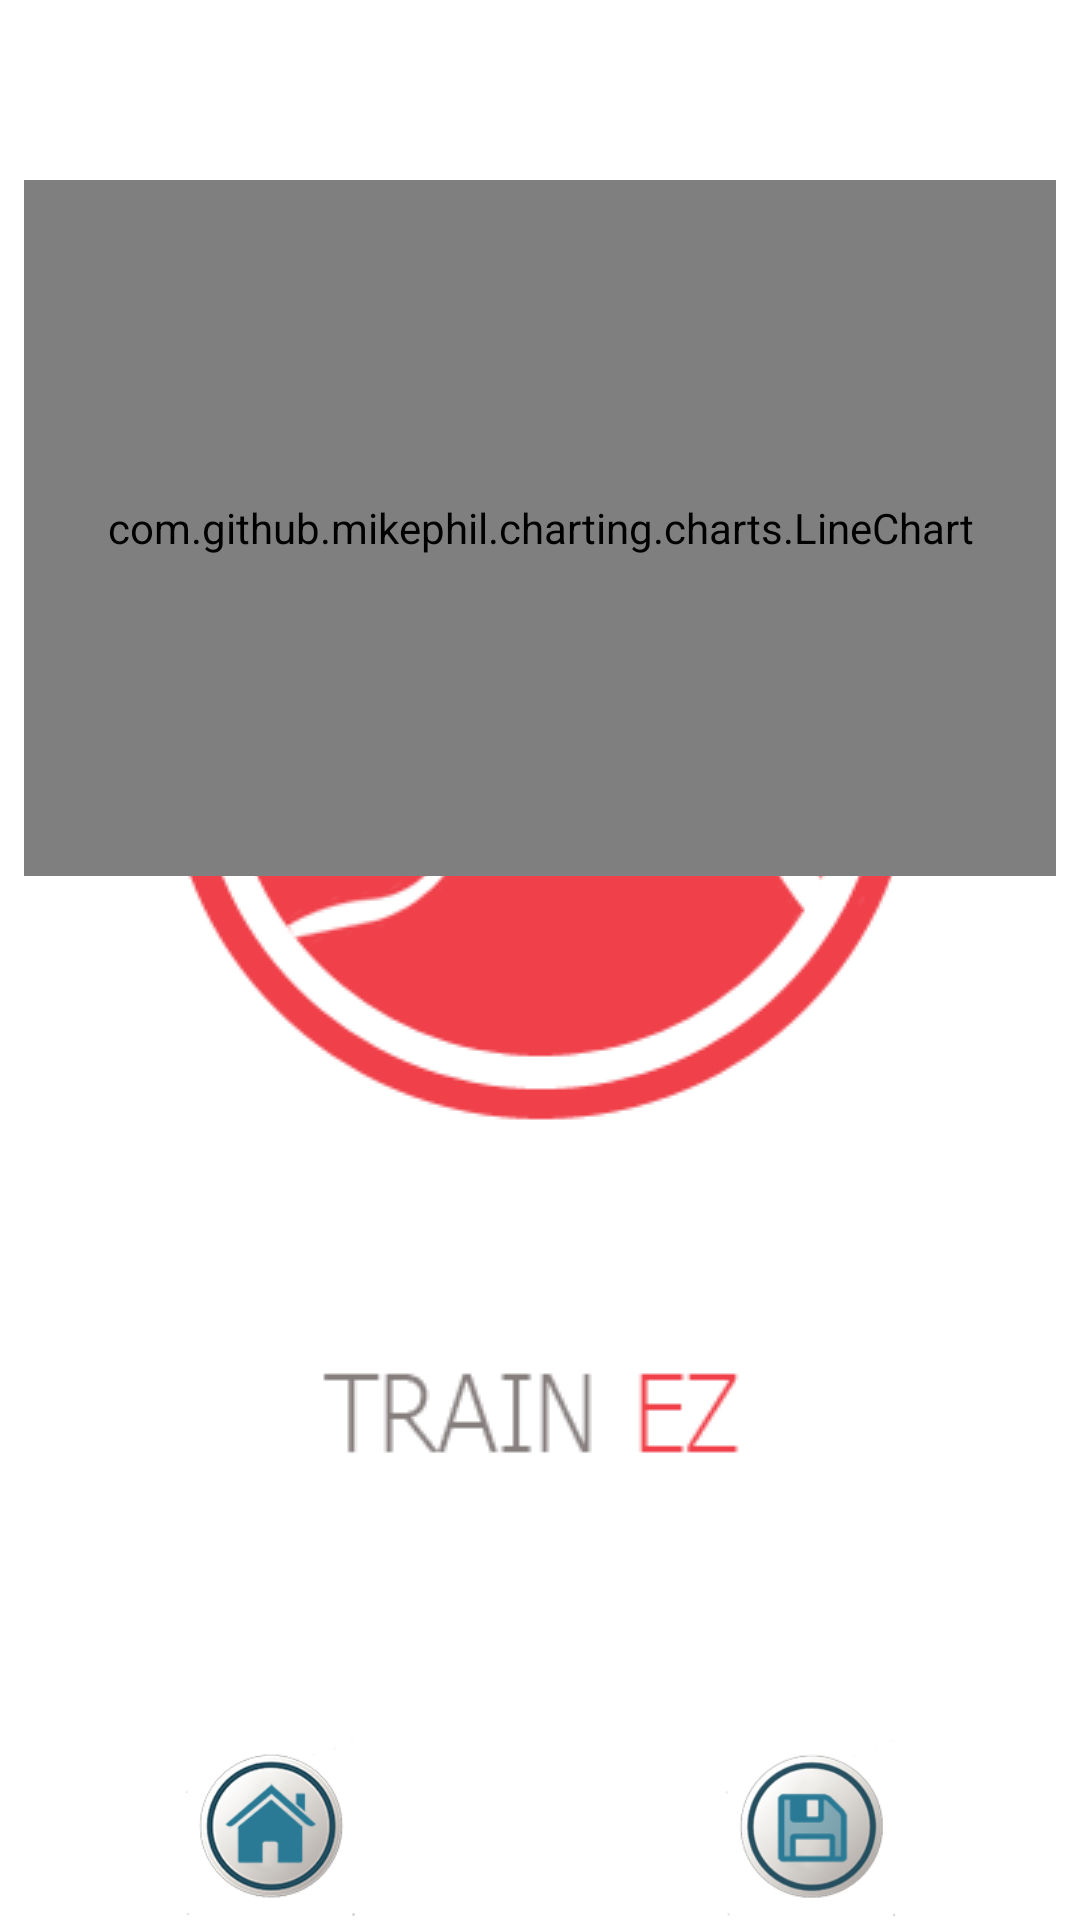

Icon click points for this 1080px×1920px phone screenshot, format (x=x, y=y):
home: (x=270, y=1835)
save: (x=811, y=1836)
